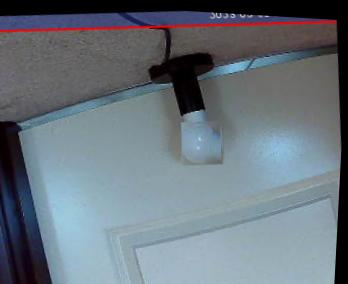Fan: (179, 115, 226, 162)
